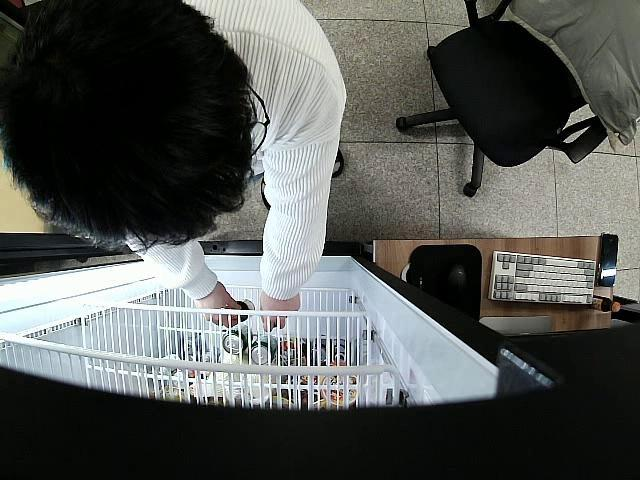17_vita500: (230, 299, 254, 324)
